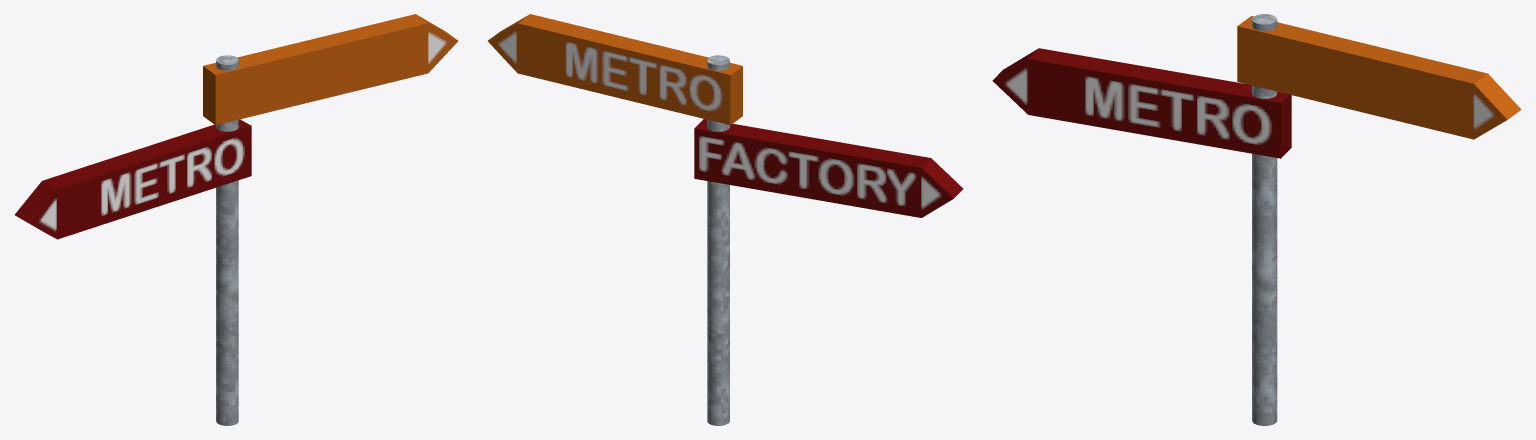
File: ground_zero_sign.glb
The picture shows the model from 3 angles, left to right: view 1: azimuth 30°, elevation 25°; view 2: azimuth 150°, elevation 25°; view 3: azimuth 330°, elevation 25°; orthographic projection. The views are drawn at different scales.
Visible parts, largest first — view 1: Ground0Sign; view 2: Ground0Sign; view 3: Ground0Sign.
Part boxes in pixels (<box>): Ground0Sign: <box>14,14,457,425</box>; Ground0Sign: <box>488,14,963,425</box>; Ground0Sign: <box>992,14,1521,425</box>.
Size of the model in its own units: 1.92 by 1.48 by 0.2323.
3 materials, 3 textured.
